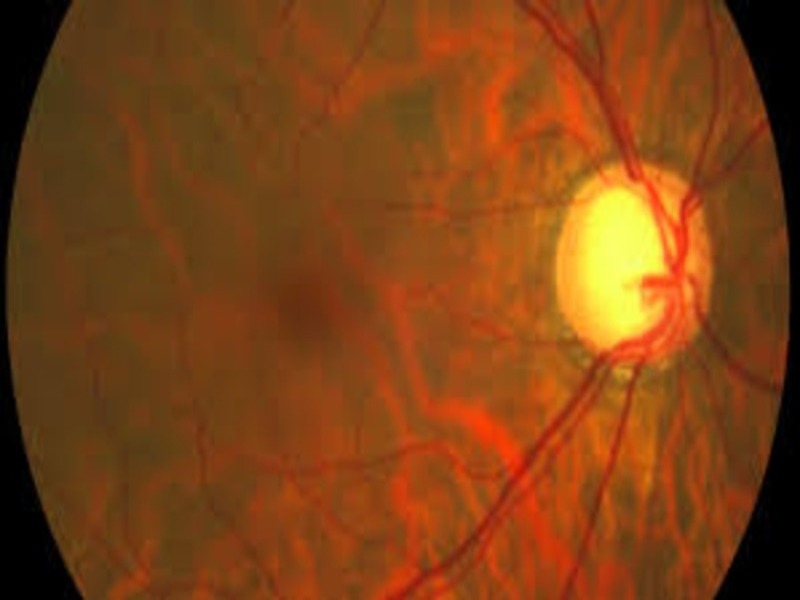Optic Cup: (581, 185, 668, 333)
Optic Disc: (557, 159, 712, 367)
